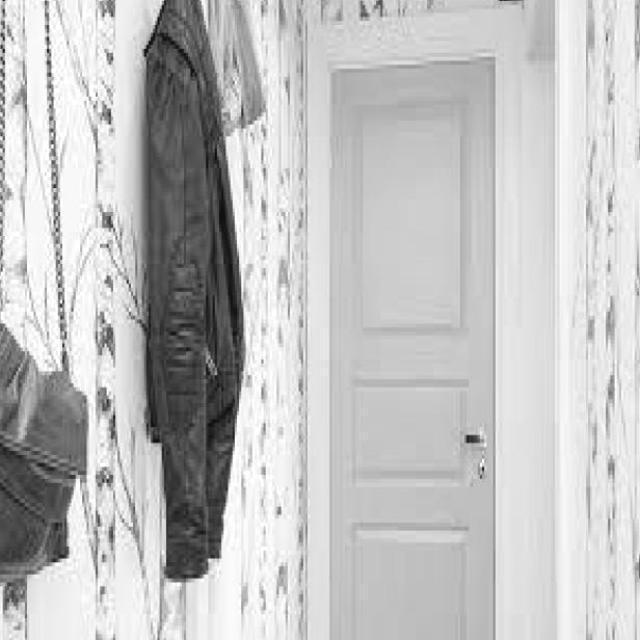Door: (326, 53, 497, 638)
